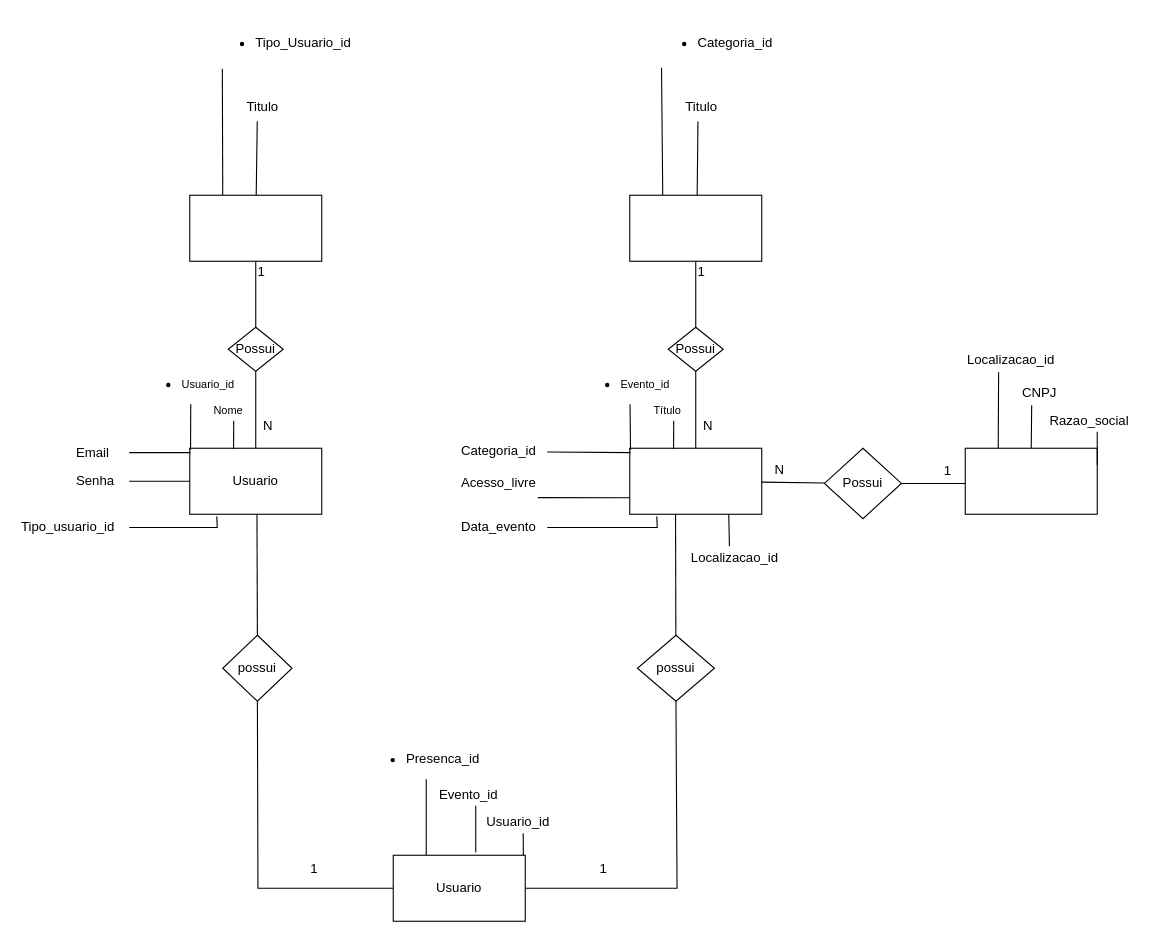
Some shapes in this 1165 by 941 pixel diagram are drawn without their labels. Here are the shapes that lost their labels. From the top down, the centre of each, then its label:
At (x=255, y=227): "TipoUsuario".
At (x=695, y=227): "Categoria".
At (x=695, y=480): "Evento".
At (x=1030, y=480): "Localizacao".
